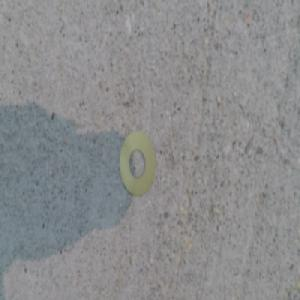Washer: (117, 127, 155, 196)
